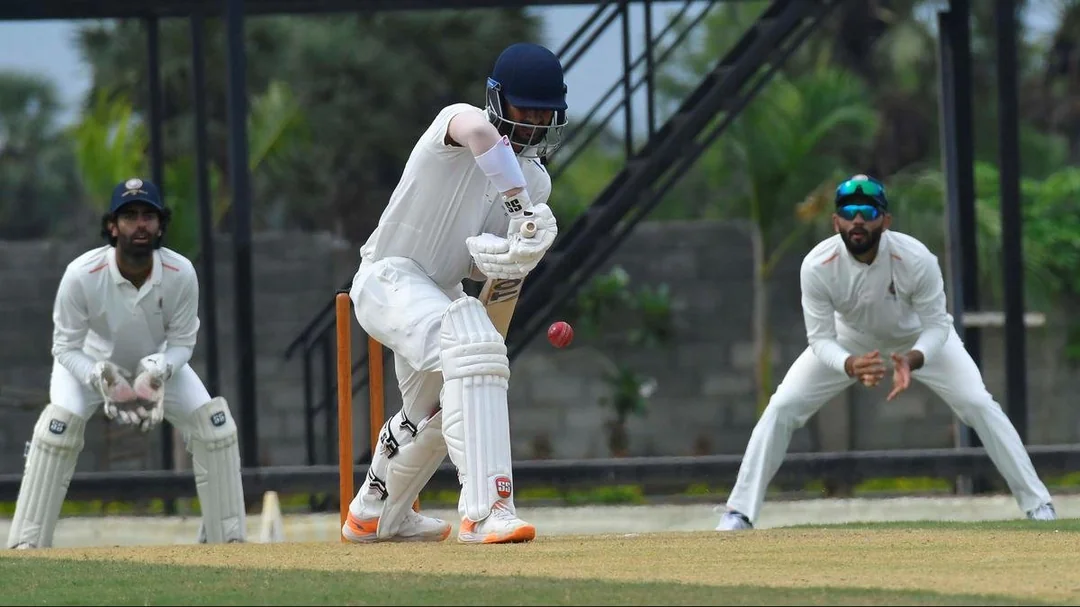Defence: (158, 11, 795, 605)
